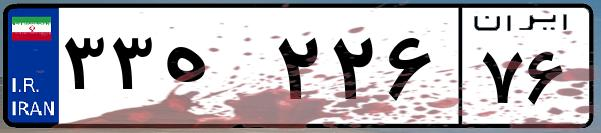2: (270, 28, 330, 110), (330, 28, 385, 110)
3: (57, 26, 110, 100), (110, 28, 158, 98)
6: (385, 28, 445, 110), (525, 38, 570, 115)
7: (475, 38, 525, 113)
ه: (158, 20, 270, 120)
